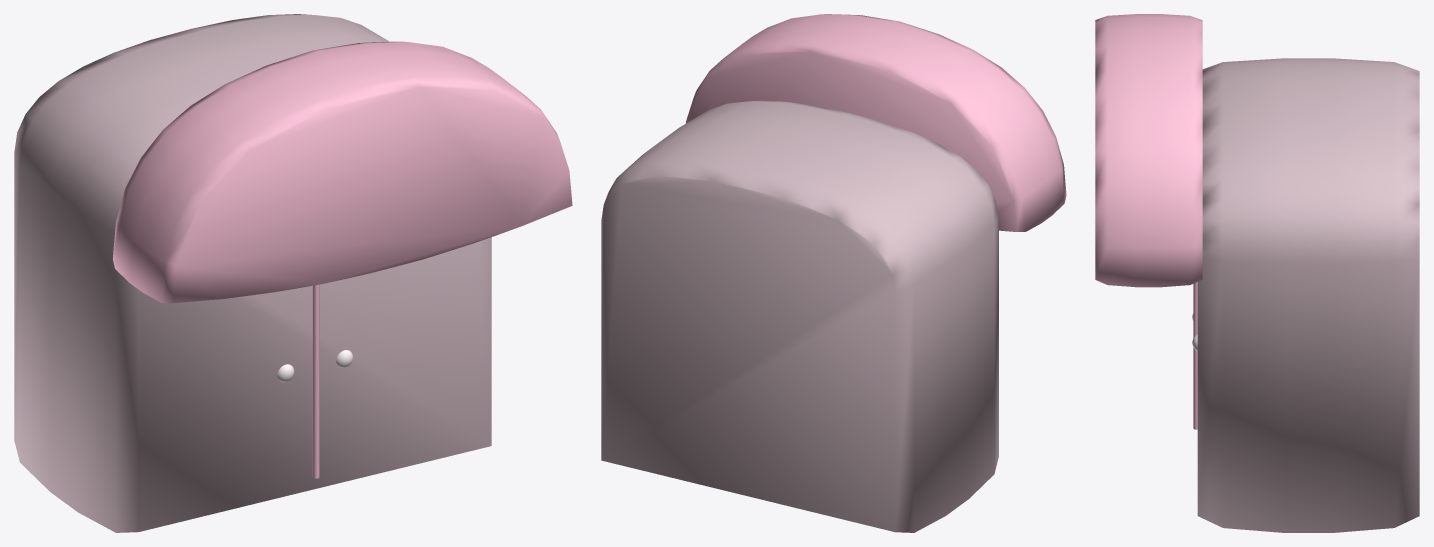
File: decor_4_candy.glb
3 views of the same model, side by side, from view 1: azimuth 30°, elevation 25°; view 2: azimuth 150°, elevation 25°; view 3: azimuth 270°, elevation 25° (orthographic). The views are drawn at different scales.
Visible parts, largest first — view 1: decor_4_candy; view 2: decor_4_candy; view 3: decor_4_candy.
Part boxes in pixels (left/top/right/bottom): decor_4_candy: left=14, top=14, right=572, bottom=532; decor_4_candy: left=601, top=14, right=1066, bottom=532; decor_4_candy: left=1095, top=14, right=1419, bottom=532.
Bounding box in the file's own units: 14.04 × 14.82 × 10.73.
